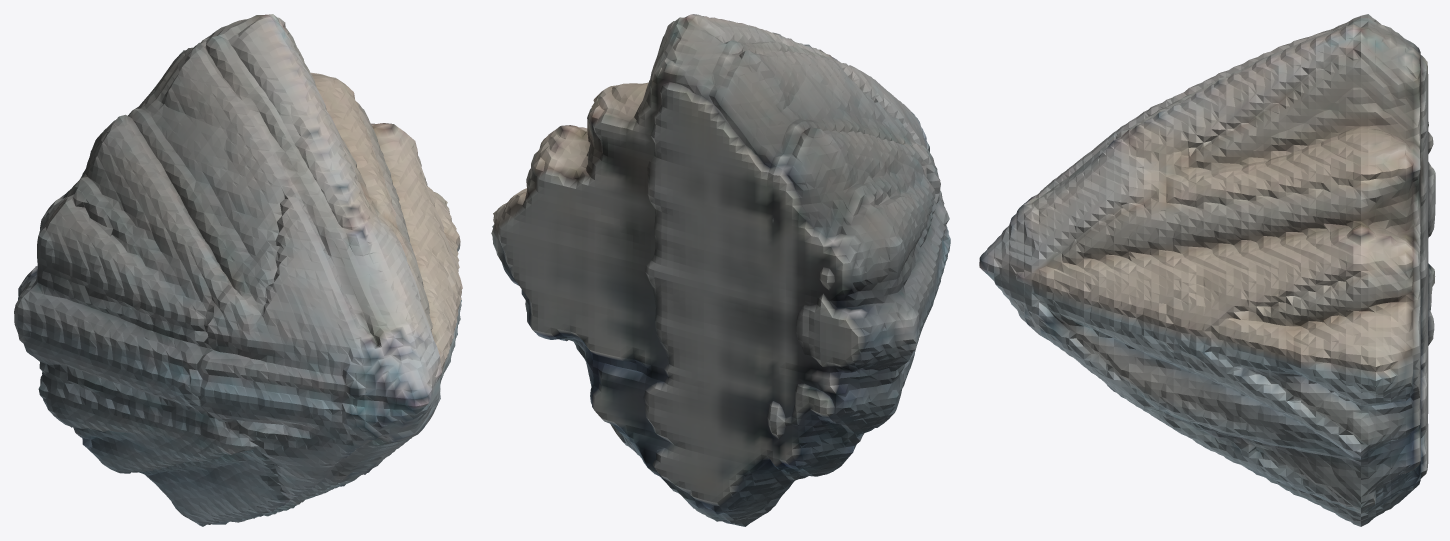
3 views of the same model, side by side, from view 1: azimuth 30°, elevation 25°; view 2: azimuth 150°, elevation 25°; view 3: azimuth 270°, elevation 25° (orthographic). The views are drawn at different scales.
Parts seen in each view (by area): view 1: world; view 2: world; view 3: world.
Boxes of the visible parts, <box> form: world: <box>14,14,462,526</box>; world: <box>491,14,950,526</box>; world: <box>979,14,1435,526</box>.
Size of the model in its own units: 0.9266 by 1.03 by 0.835.
